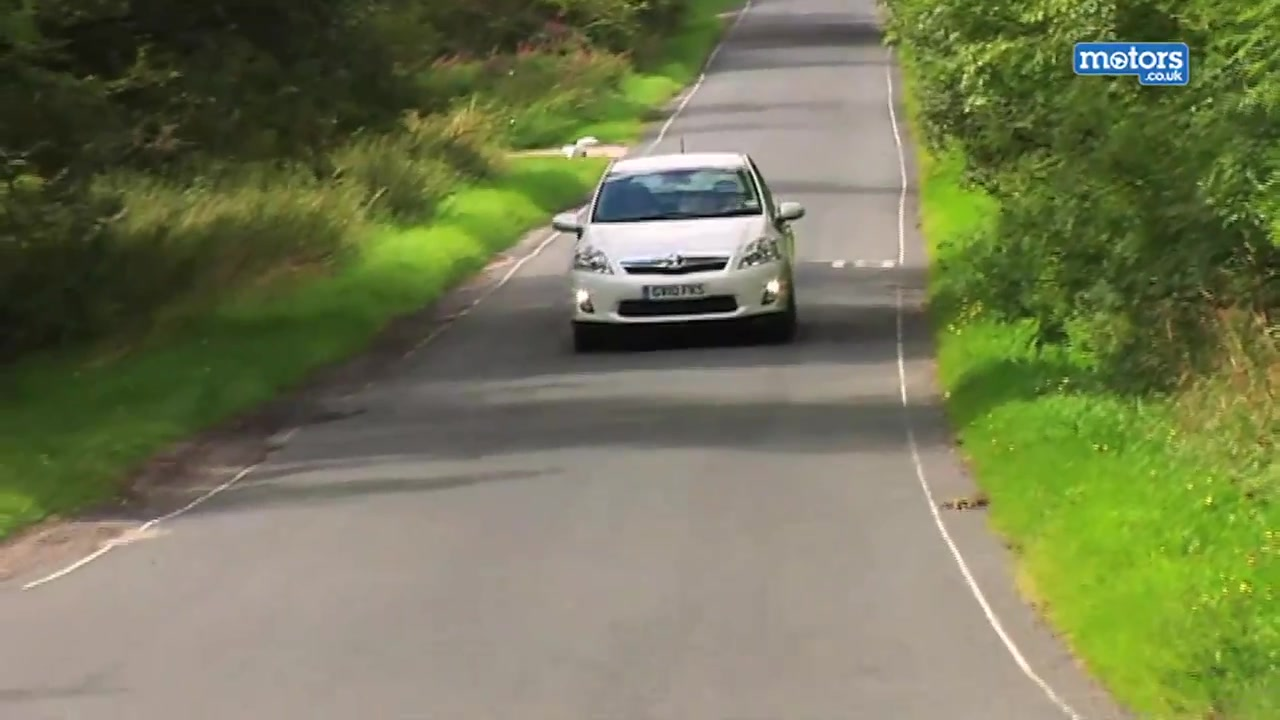car: (554, 150, 807, 346)
